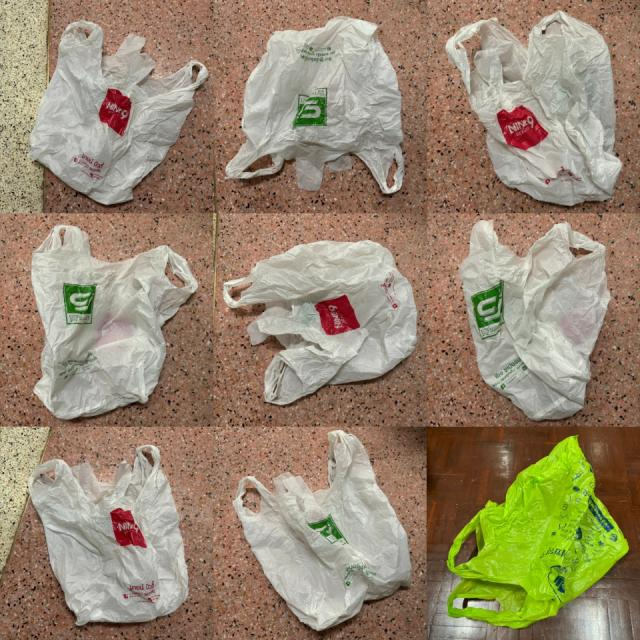Single-layer Plastic: (234, 430, 411, 630), (448, 436, 629, 628), (446, 11, 621, 205), (29, 21, 208, 204), (31, 225, 198, 418), (224, 240, 418, 404), (226, 18, 404, 194), (460, 221, 610, 419), (30, 446, 188, 624)
